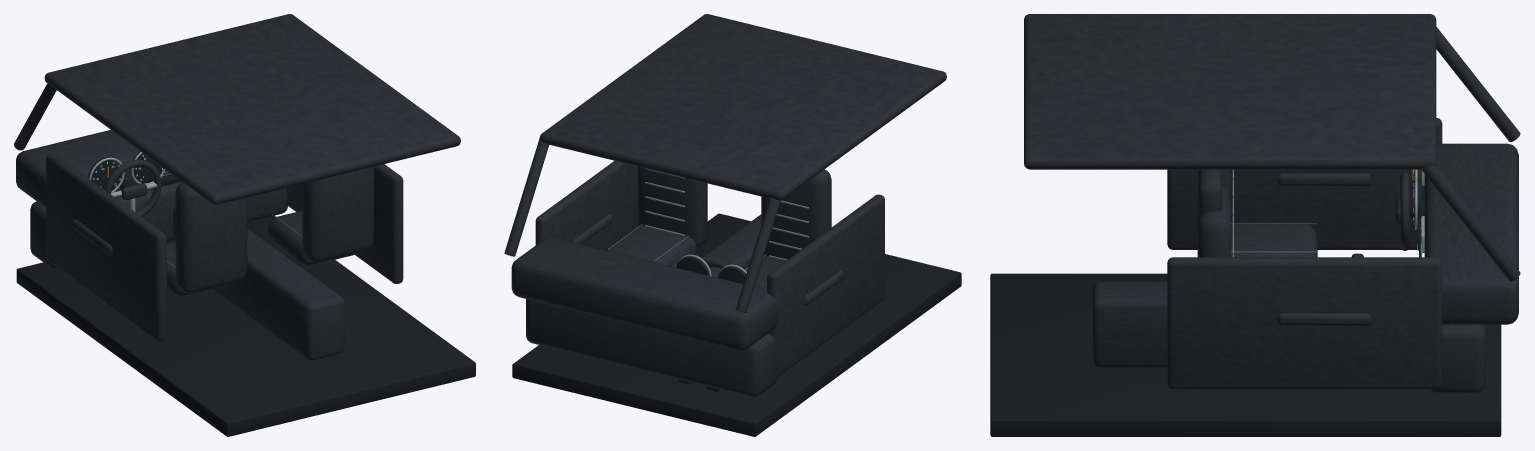
File: driver-interior.glb
3 views of the same model, side by side, from view 1: azimuth 30°, elevation 25°; view 2: azimuth 150°, elevation 25°; view 3: azimuth 270°, elevation 25° (orthographic). The views are drawn at different scales.
Visible parts, largest first — view 1: Headliner, Floor, Door panel, Centre tunnel, Seat back, Seat back.001, Dashboard, Door panel.001, Lower console, Seat cushion.001, SteeringWheel, A pillar (+4 smaller); view 2: Headliner, Floor, Dashboard, Door panel, Lower console, Door panel.001, Seat back.001, Seat back, Seat cushion.001, Centre tunnel, A pillar.001, A pillar (+2 smaller); view 3: Headliner, Floor, Door panel.001, Dashboard, Door panel, Centre tunnel, Lower console, Seat cushion, A pillar.001, A pillar, Seat back.001, Door armrest (+3 smaller).
Boxes of the visible parts, left/top/right/bottom form: Headliner: left=44, top=14, right=460, bottom=204; Floor: left=16, top=215, right=475, bottom=436; Door panel: left=46, top=153, right=166, bottom=341; Centre tunnel: left=173, top=208, right=344, bottom=360; Seat back: left=175, top=182, right=247, bottom=293; Seat back.001: left=302, top=166, right=373, bottom=262; Dashboard: left=16, top=130, right=181, bottom=207; Door panel.001: left=286, top=164, right=403, bottom=283; Lower console: left=30, top=181, right=287, bottom=268; Seat cushion.001: left=268, top=210, right=355, bottom=265; SteeringWheel: left=104, top=159, right=161, bottom=216; A pillar: left=14, top=83, right=56, bottom=150; Headliner: left=539, top=14, right=946, bottom=200; Floor: left=512, top=213, right=961, bottom=436; Dashboard: left=511, top=237, right=778, bottom=350; Door panel: left=767, top=194, right=884, bottom=377; Lower console: left=526, top=299, right=777, bottom=396; Door panel.001: left=535, top=160, right=637, bottom=250; Seat back.001: left=637, top=166, right=707, bottom=247; Seat back: left=761, top=169, right=831, bottom=259; Seat cushion.001: left=606, top=225, right=696, bottom=265; Centre tunnel: left=701, top=214, right=761, bottom=277; A pillar.001: left=504, top=138, right=548, bottom=256; A pillar: left=735, top=198, right=780, bottom=312; Headliner: left=1024, top=14, right=1436, bottom=169; Floor: left=990, top=273, right=1501, bottom=436; Door panel.001: left=1167, top=257, right=1442, bottom=389; Dashboard: left=1424, top=143, right=1518, bottom=324; Door panel: left=1167, top=118, right=1442, bottom=249; Centre tunnel: left=1092, top=281, right=1167, bottom=367; Lower console: left=1429, top=324, right=1485, bottom=393; Seat cushion: left=1231, top=224, right=1317, bottom=257; A pillar.001: left=1421, top=164, right=1520, bottom=281; A pillar: left=1436, top=27, right=1520, bottom=141; Seat back.001: left=1197, top=187, right=1230, bottom=257; Door armrest: left=1277, top=173, right=1371, bottom=186.
Size of the model in its own units: 1.81 by 1.56 by 2.7.
Materials: 7 (1 with a texture image).
